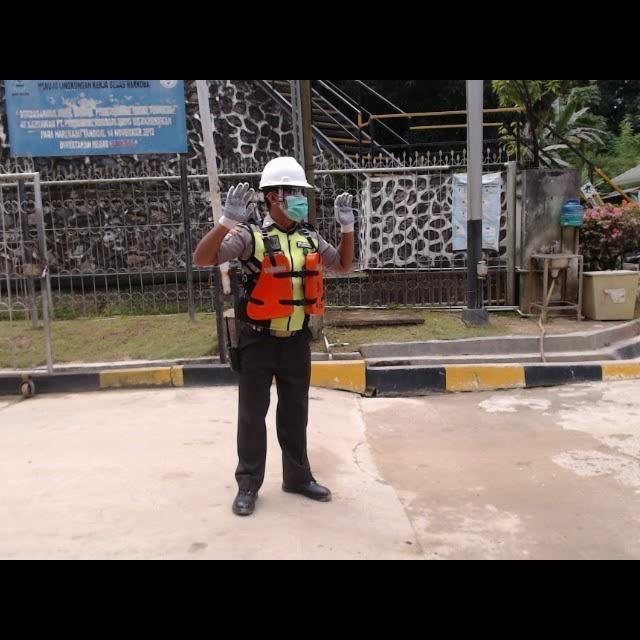Gloves: (218, 183, 258, 231), (332, 192, 356, 232)
Hardhat: (258, 156, 315, 187)
Mask: (268, 194, 307, 219)
Person: (191, 156, 357, 519)
Safety Vest: (243, 224, 325, 328)
